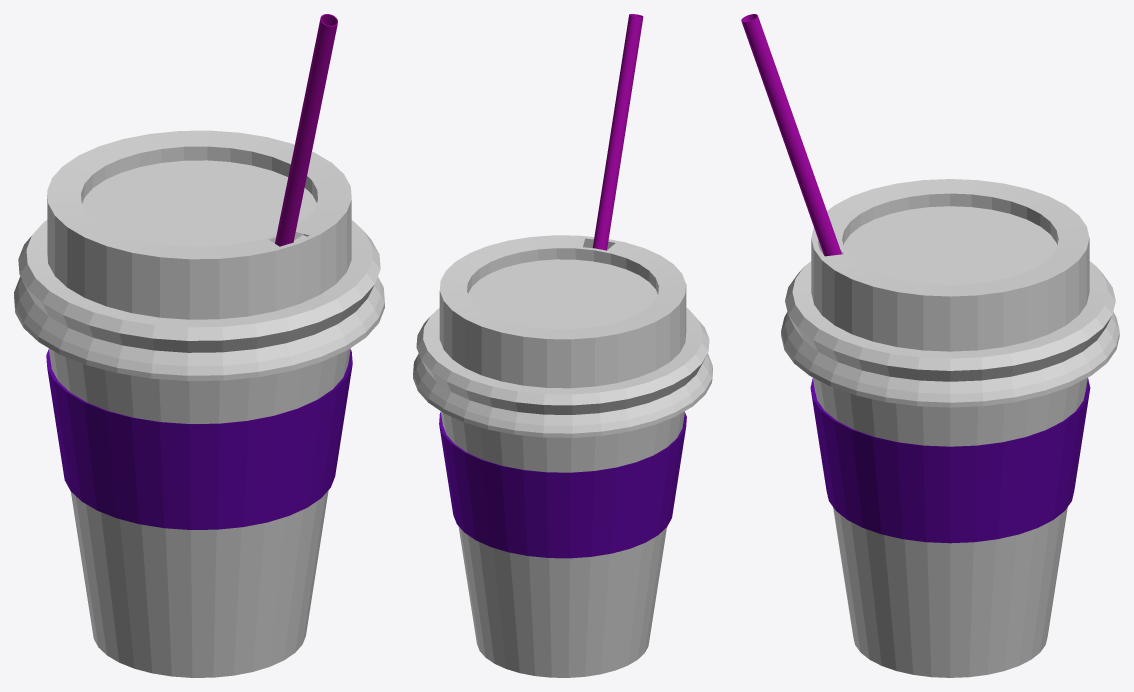
File: Cup.gltf
The picture shows the model from 3 angles, left to right: view 1: azimuth 30°, elevation 25°; view 2: azimuth 150°, elevation 25°; view 3: azimuth 270°, elevation 25°; orthographic projection. The views are drawn at different scales.
Visible parts, largest first — view 1: cup, cok, straw; view 2: cup, cok, straw; view 3: cup, cok, straw.
Part boxes in pixels (box(x1,y1,x2,y2)): cup: box(46, 238, 352, 677); cok: box(14, 130, 384, 380); straw: box(275, 14, 337, 246); cup: box(439, 411, 686, 677); cok: box(413, 235, 712, 437); straw: box(592, 14, 643, 261); cup: box(810, 377, 1090, 677); cok: box(781, 179, 1119, 407); straw: box(741, 14, 841, 256).
Size of the model in its own units: 2.9 by 5.94 by 3.24.
